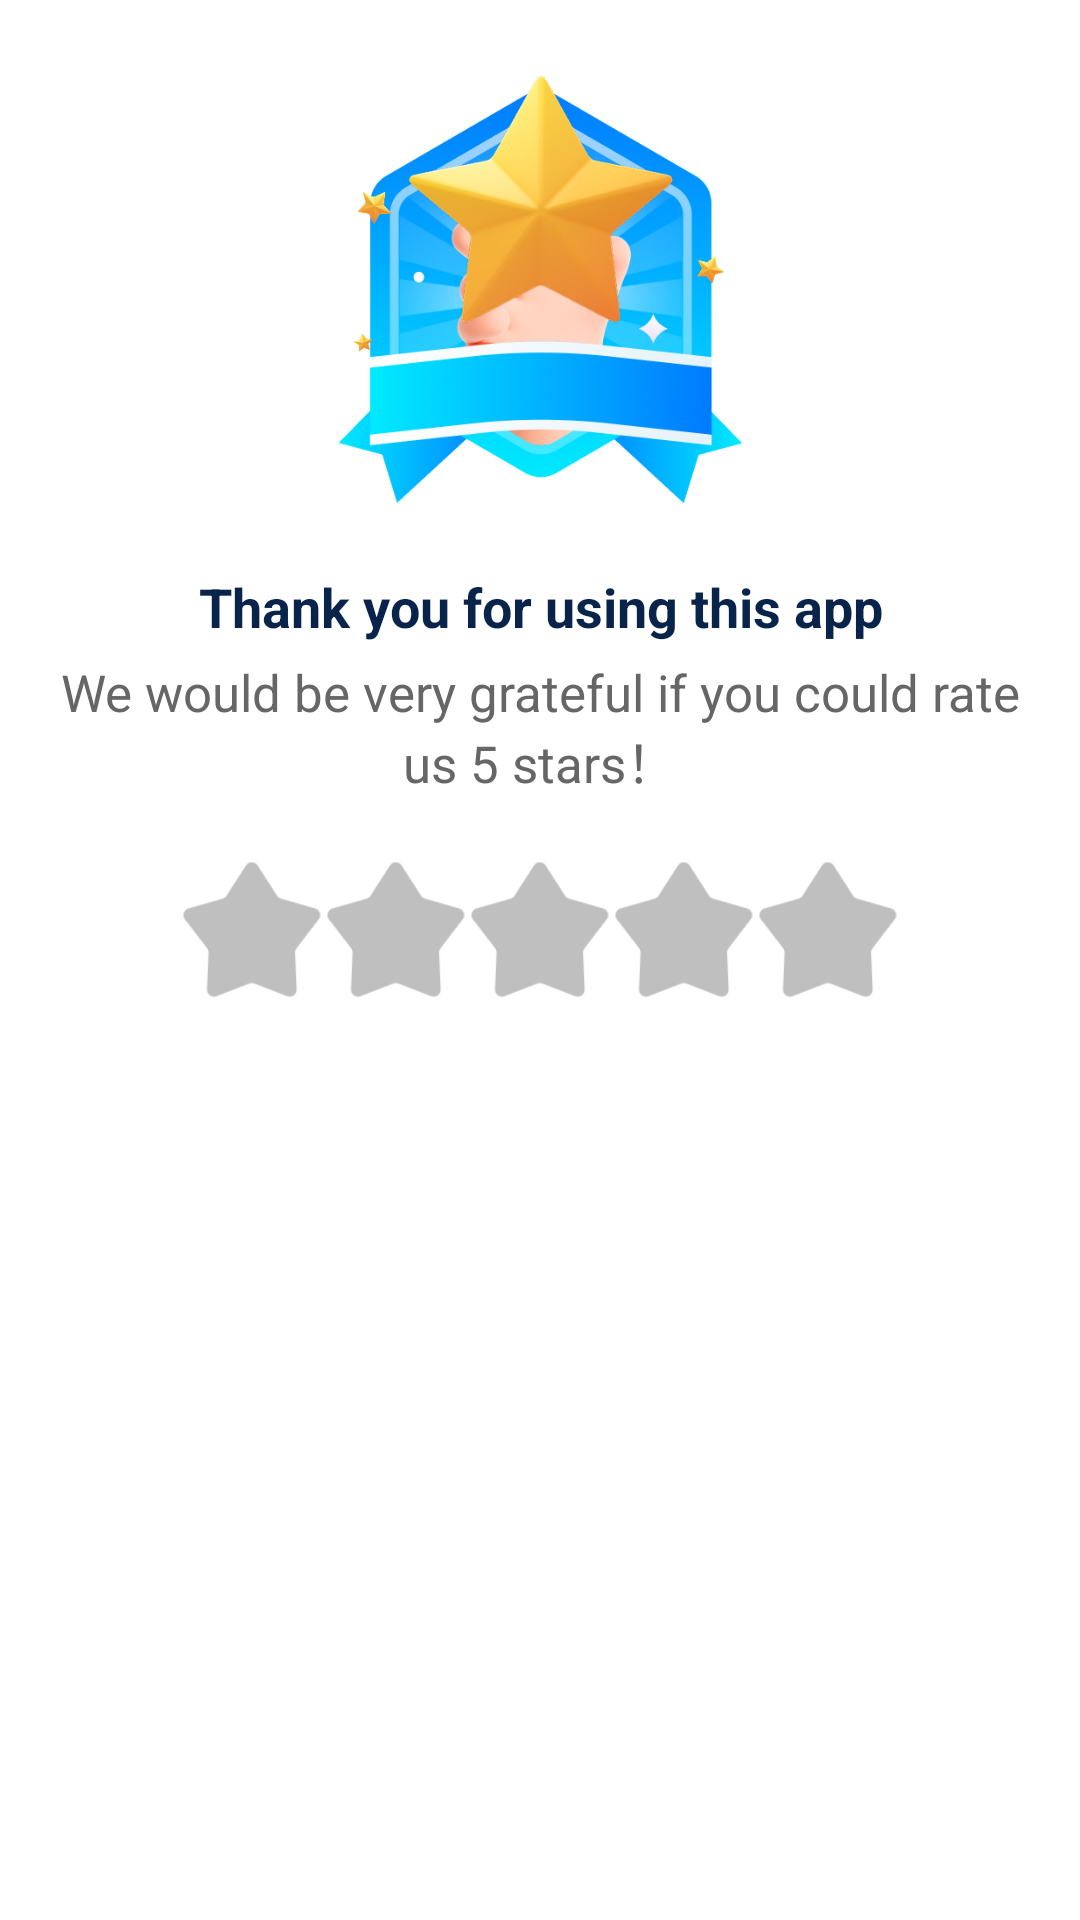

Where icons sit on this 1080px×1920px app screen, as (x1, y1, x2, y2):
Star 1: (183, 862, 320, 997)
Star 2: (327, 862, 464, 997)
Star 3: (471, 862, 608, 997)
Star 4: (615, 862, 752, 997)
Star 5: (759, 862, 896, 997)
